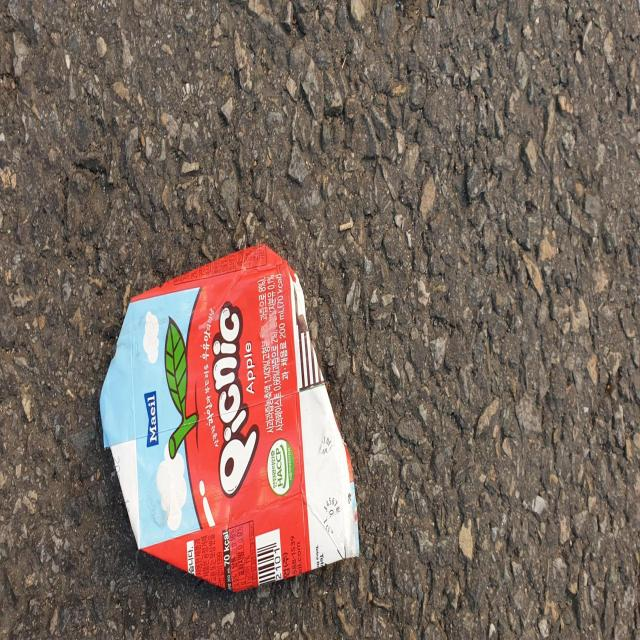paperpack: (99, 245, 359, 591)
